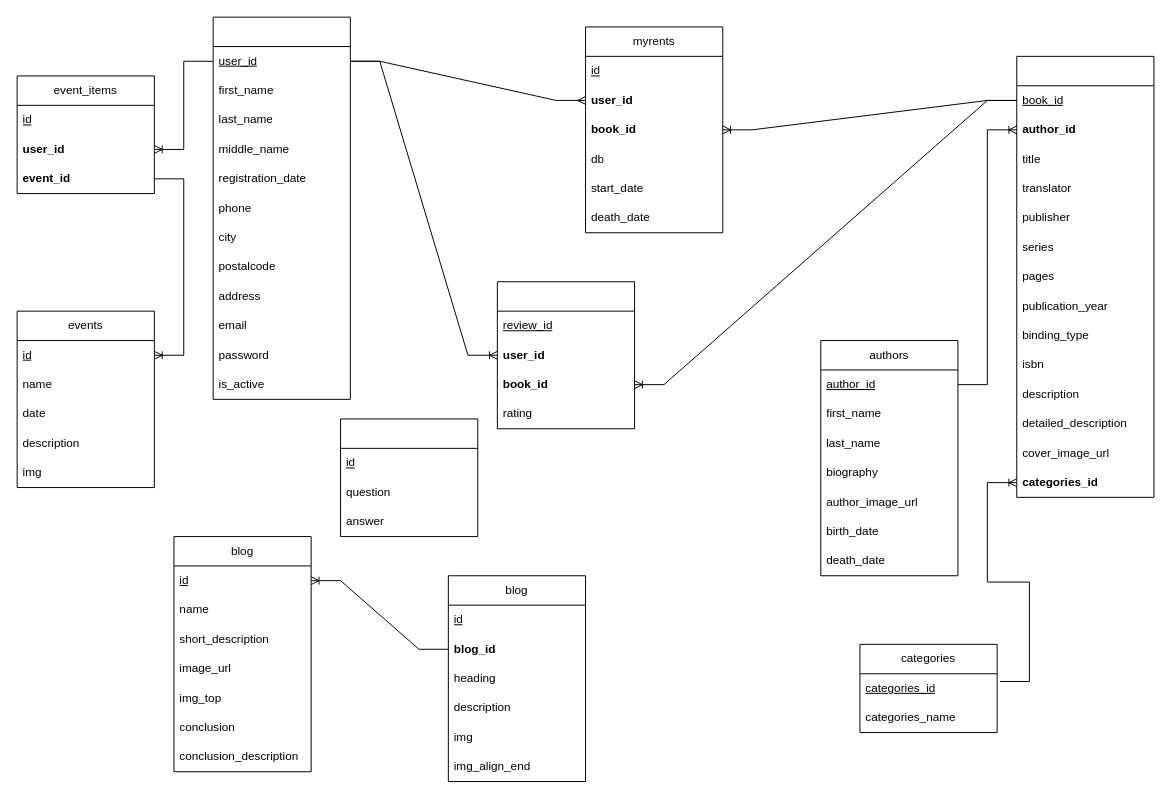
Image size: 1171x799. Some labels were removed from this diagram. The box of each missing label's shape, as (x1, y1, x2, y2) in pixels:
books: (1016, 55, 1154, 497)
faq: (340, 418, 478, 537)
reviews: (496, 281, 635, 429)
users: (212, 16, 350, 399)
